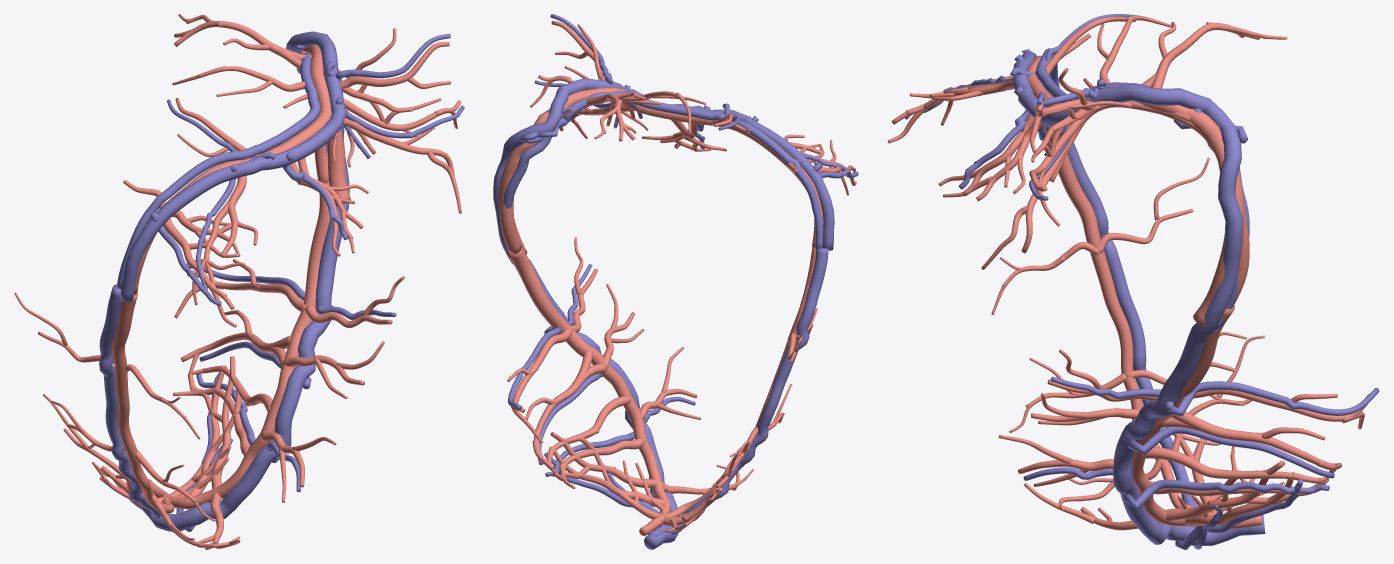
The model's file is vessels_44.glb.
3 views of the same model, side by side, from view 1: azimuth 30°, elevation 25°; view 2: azimuth 150°, elevation 25°; view 3: azimuth 270°, elevation 25° (orthographic). The views are drawn at different scales.
Parts seen in each view (by area): view 1: Renderer Node; view 2: Renderer Node; view 3: Renderer Node.
Part boxes in pixels (left/top/right/bottom): Renderer Node: left=14, top=14, right=464, bottom=549; Renderer Node: left=493, top=14, right=858, bottom=549; Renderer Node: left=887, top=14, right=1379, bottom=549.
Size of the model in its own units: 94.79 by 122 by 95.32.
